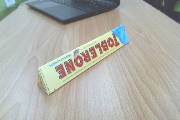Chocolate: (24, 21, 144, 97)
